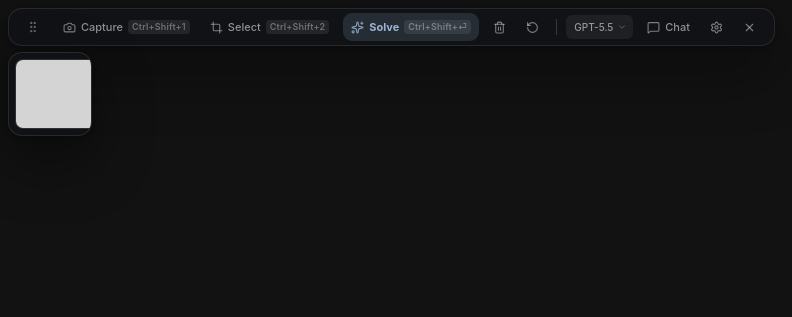
it: overlay failure recovery and external commands › renders a failed chat turn with its partial answer and an inline error
Expected: the picture with alt text "Screenshot 1" is shown, [16, 60, 92, 128]
Click the button titled "Toggle chat" at (669, 27), box [639, 13, 698, 41]
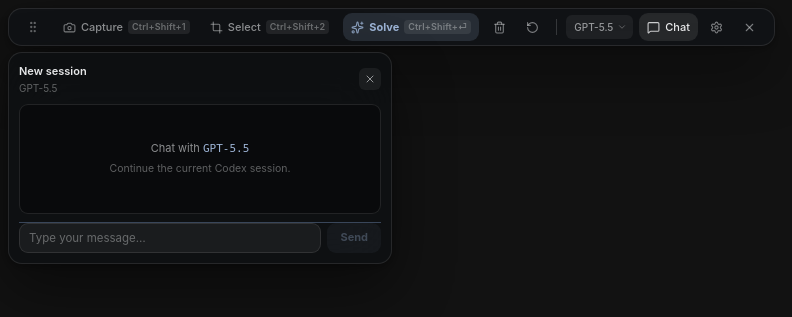
Type "Explain this" into the field with placeholder "Type your message…" at (170, 238), box [19, 222, 322, 252]
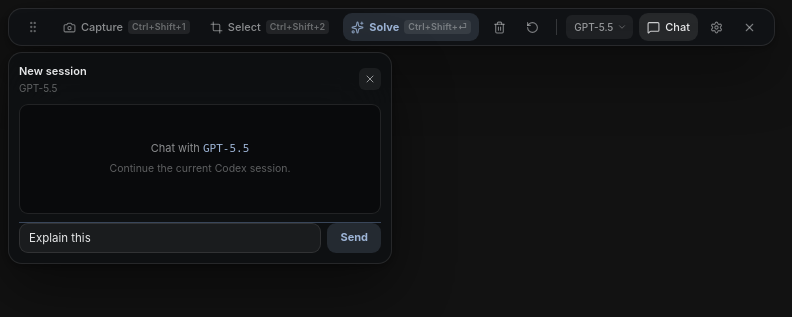
Submit the form with placeholder "Type your message…", box [19, 222, 381, 252]
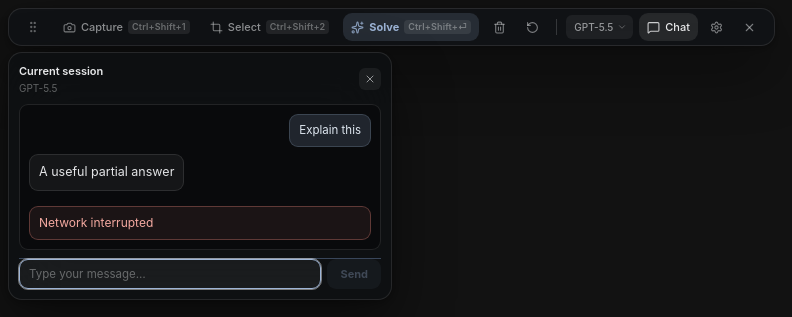
Expected: the text "A useful partial answer" is shown, [39, 162, 174, 183]
Expected: the message reads "Network interrupted", [39, 215, 153, 230]
